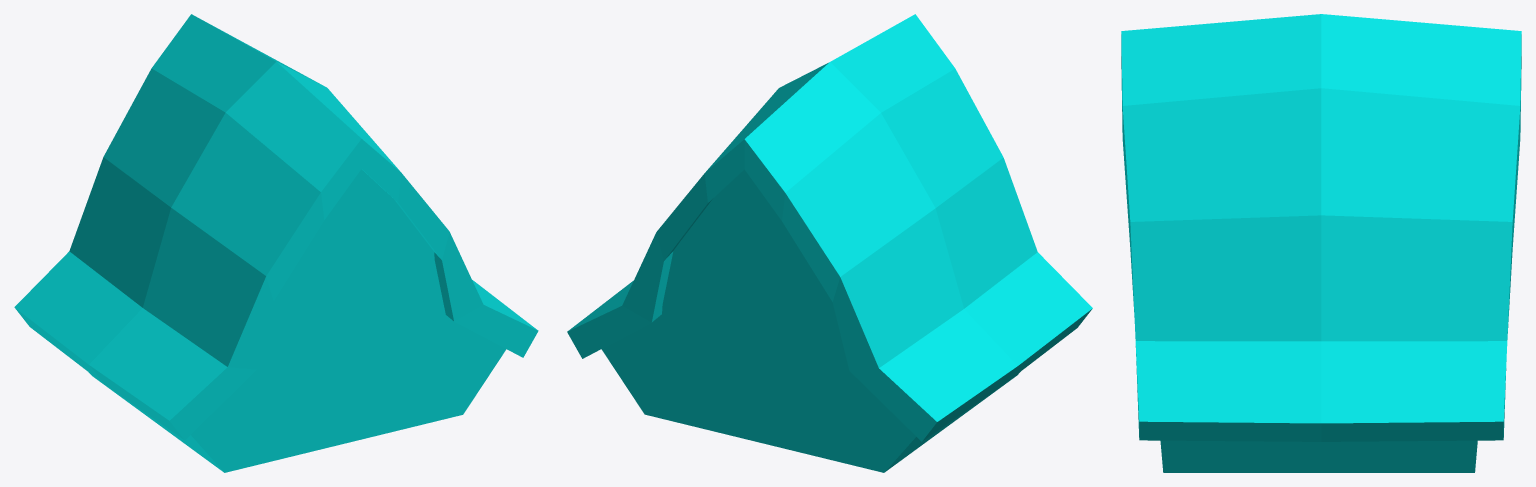
File: SM_Bld_Roof_Thatch_Preset_S_03_Collision.fbx
3 views of the same model, side by side, from view 1: azimuth 30°, elevation 25°; view 2: azimuth 150°, elevation 25°; view 3: azimuth 270°, elevation 25° (orthographic). The views are drawn at different scales.
Visible parts, largest first — view 1: SM_Bld_Roof_Thatch_Preset_S_03_Collision; view 2: SM_Bld_Roof_Thatch_Preset_S_03_Collision; view 3: SM_Bld_Roof_Thatch_Preset_S_03_Collision.
Boxes of the visible parts, x1,y1,x2,y2 form: SM_Bld_Roof_Thatch_Preset_S_03_Collision: [14, 14, 538, 472]; SM_Bld_Roof_Thatch_Preset_S_03_Collision: [567, 14, 1092, 472]; SM_Bld_Roof_Thatch_Preset_S_03_Collision: [1121, 14, 1521, 472].
Bounding box in the file's own units: 524 × 444 × 413.
